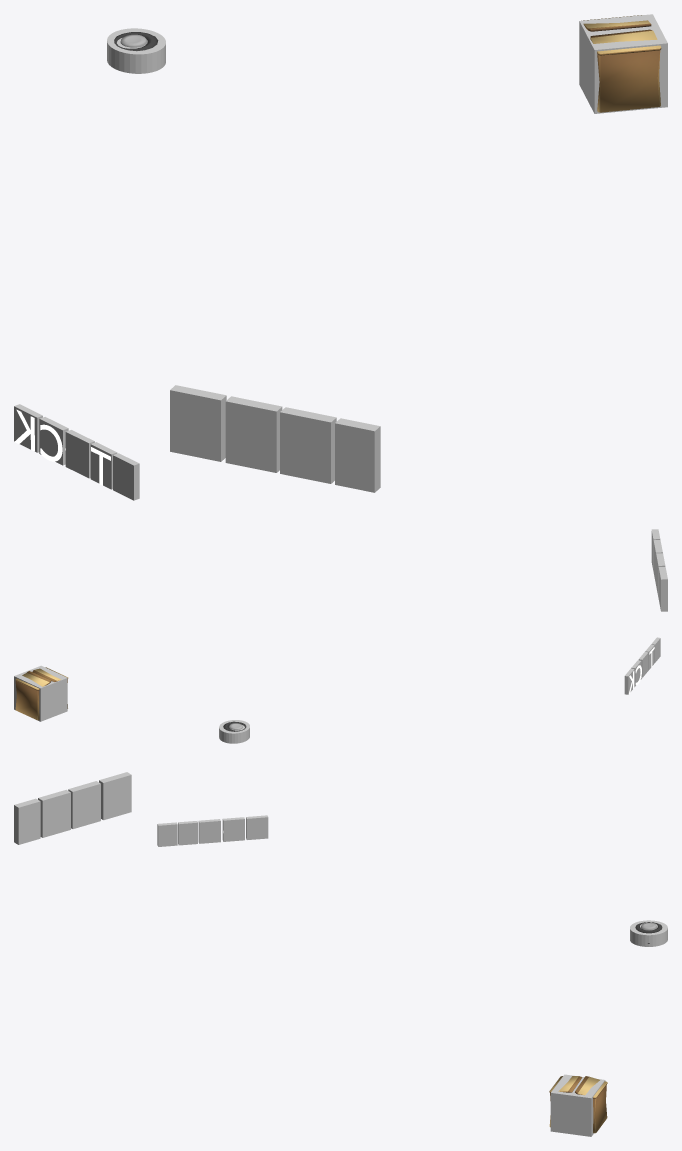
The model's file is physic_object.glb.
3 renders of one model, top to bottom at view 1: azimuth 30°, elevation 25°; view 2: azimuth 150°, elevation 25°; view 3: azimuth 270°, elevation 25°, orthographic. The views are drawn at different scales.
Parts seen in each view (by area): view 1: Pack_2B.005, parent_cube_l.001, parent_cube_u_Z1, parent_cube_l_Z1, box_parent_cube.002_Z1, parent_cube_f_Z1, parent_cylinder, parent_cube_u_Z1.002, parent_cube_u_Z1.004, parent_cube_u_Z1.006, parent_cube_u_Z1.007, parent_cube_u_Z1.003; view 2: box_parent_cube.002_Z1, Pack_2B.005, parent_cylinder, parent_cube_l.001; view 3: box_parent_cube.002_Z1, parent_cube_l.001, parent_cube_u_Z1, parent_cube_l_Z1, Pack_2B.005, parent_cube_f_Z1, parent_cylinder, parent_cube_u_Z1.004, parent_cube_u_Z1.006, parent_cube_u_Z1.007.
Boxes of the visible parts, bbox=[...] form: Pack_2B.005: bbox=[581, 15, 661, 112]; parent_cube_l.001: bbox=[170, 385, 226, 461]; parent_cube_u_Z1: bbox=[280, 407, 336, 483]; parent_cube_l_Z1: bbox=[225, 396, 282, 472]; box_parent_cube.002_Z1: bbox=[579, 14, 667, 113]; parent_cube_f_Z1: bbox=[335, 418, 380, 492]; parent_cylinder: bbox=[107, 28, 165, 73]; parent_cube_u_Z1.002: bbox=[113, 453, 139, 500]; parent_cube_u_Z1.004: bbox=[65, 430, 94, 478]; parent_cube_u_Z1.006: bbox=[39, 417, 68, 465]; parent_cube_u_Z1.007: bbox=[14, 404, 42, 452]; parent_cube_u_Z1.003: bbox=[90, 442, 117, 489]; box_parent_cube.002_Z1: bbox=[14, 665, 67, 721]; Pack_2B.005: bbox=[15, 667, 68, 720]; parent_cylinder: bbox=[219, 720, 249, 743]; parent_cube_l.001: bbox=[658, 567, 667, 611]; box_parent_cube.002_Z1: bbox=[550, 1074, 605, 1136]; parent_cube_l.001: bbox=[99, 772, 131, 820]; parent_cube_u_Z1: bbox=[38, 789, 70, 837]; parent_cube_l_Z1: bbox=[68, 781, 100, 828]; Pack_2B.005: bbox=[549, 1076, 607, 1133]; parent_cube_f_Z1: bbox=[14, 798, 40, 844]; parent_cylinder: bbox=[630, 920, 667, 946]; parent_cube_u_Z1.004: bbox=[198, 819, 220, 843]; parent_cube_u_Z1.006: bbox=[222, 817, 244, 841]; parent_cube_u_Z1.007: bbox=[246, 815, 268, 839].
Bounding box in the file's own units: 16.19 × 3.07 × 16.69.
Materials: 3 (2 with a texture image).
